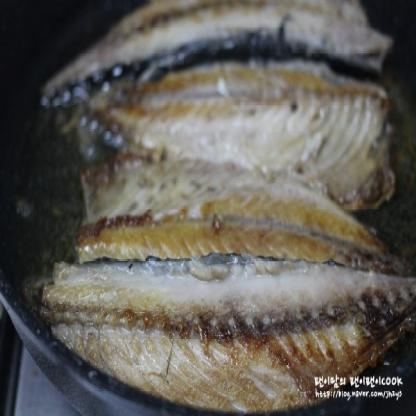Peixe: (50, 10, 416, 414)
